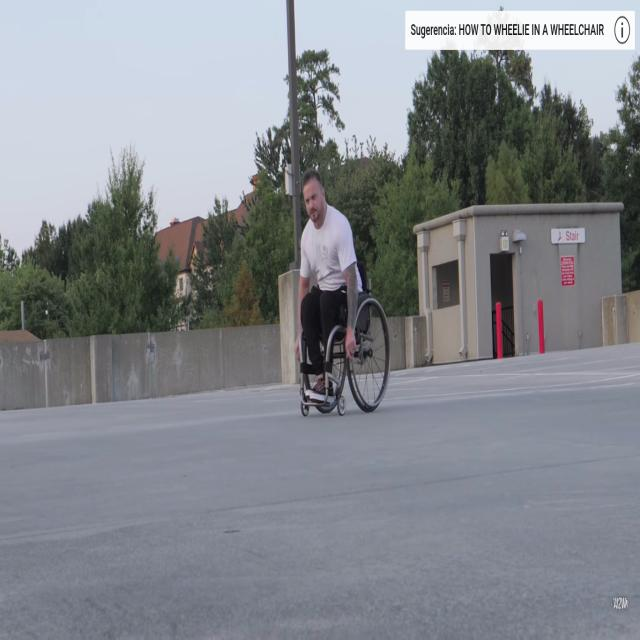wheelchairs: (295, 294, 393, 418)
